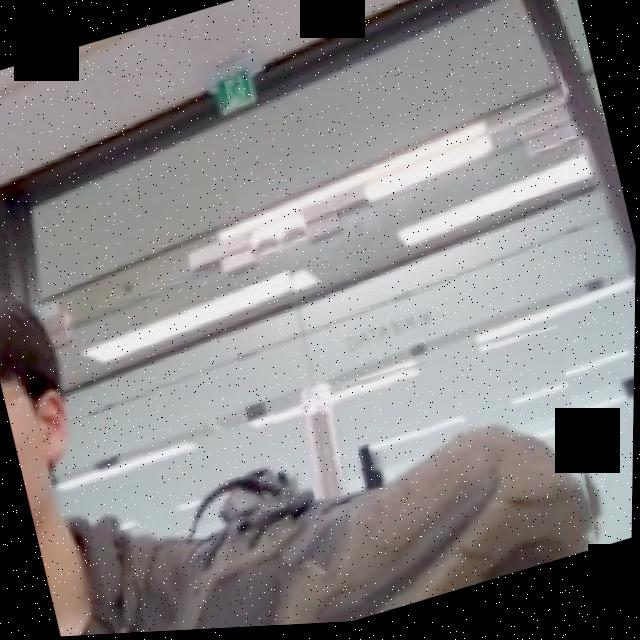shoe: (73, 318, 613, 637)
